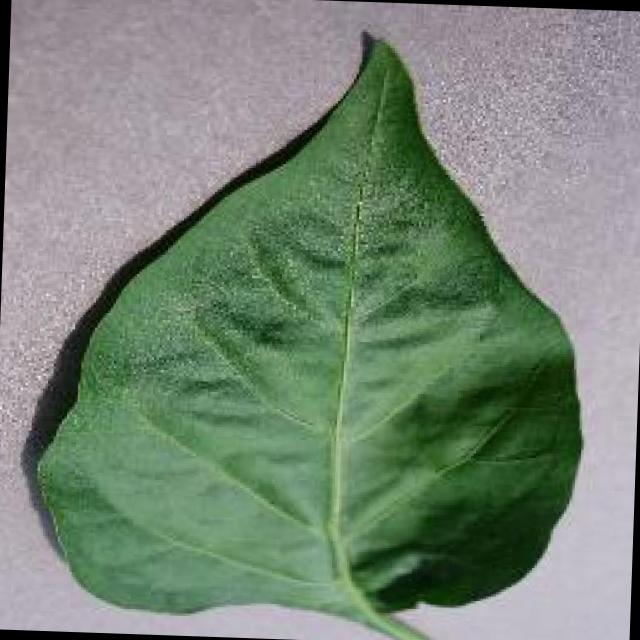Chilli_Healthy: (26, 15, 597, 640)
